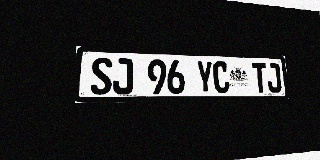6: (167, 60, 185, 94)
9: (148, 59, 167, 94)
C: (213, 61, 230, 93)
J: (113, 58, 133, 95), (266, 63, 282, 93)
S: (91, 57, 112, 95)
T: (252, 62, 268, 93)
Y: (196, 61, 214, 94)
